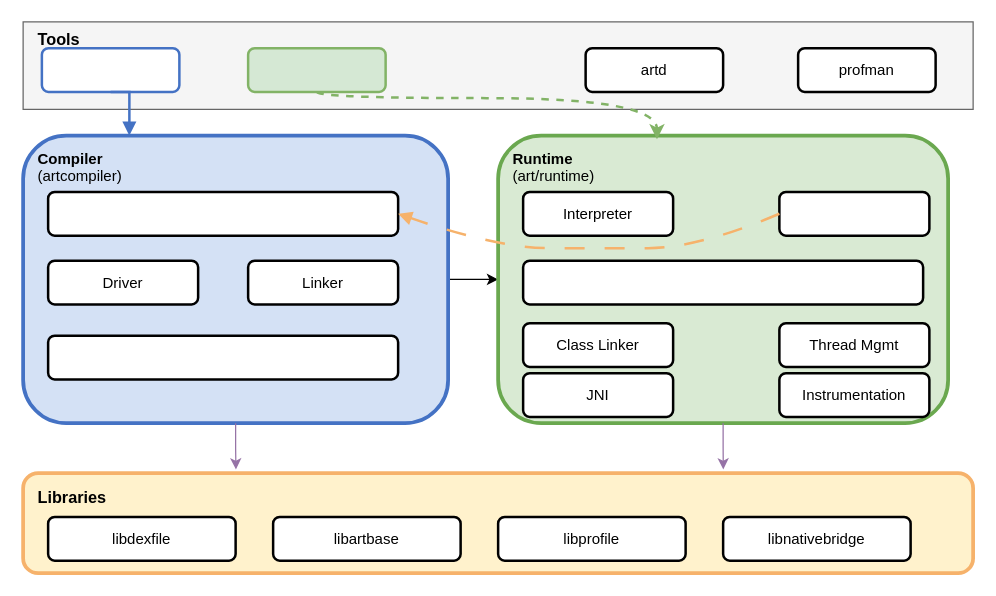
This 996x596 diagram has some shape labels left out. Each missing label, with the centre of its shape:
"dalvikvm" goes at point (316, 69).
"dex2oat" goes at point (110, 69).
"GC (Heap)" goes at point (722, 282).
"JIT" goes at point (854, 213).
"JNI Compiler" goes at point (222, 357).
"Optimizing Compiler" goes at point (222, 213).
